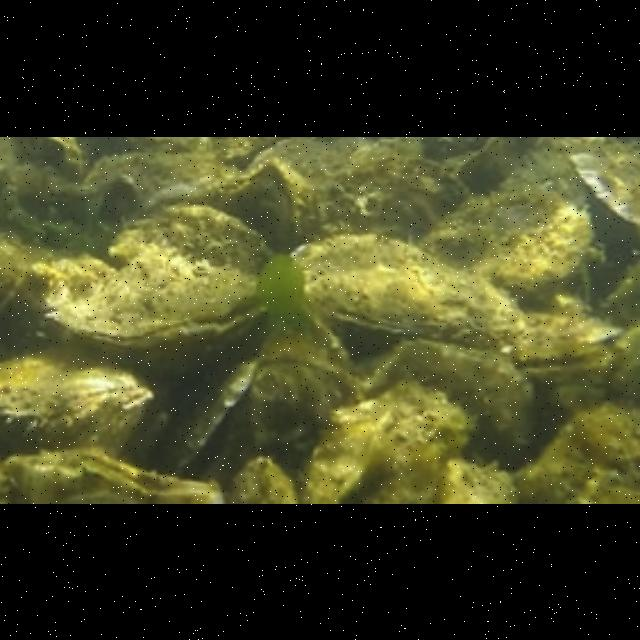Oyster-Closed: (50, 206, 270, 348), (288, 234, 528, 346), (358, 338, 539, 466), (298, 386, 477, 501), (422, 181, 598, 288), (314, 159, 473, 255), (0, 355, 150, 452), (252, 136, 424, 215), (235, 356, 364, 454), (512, 404, 638, 501), (0, 450, 226, 501), (0, 240, 117, 331), (561, 136, 638, 221), (505, 137, 589, 206), (250, 164, 312, 246), (505, 310, 623, 353), (442, 137, 521, 186), (442, 461, 517, 501), (231, 460, 297, 501), (610, 326, 638, 399)
Oyster-Open: (158, 362, 258, 476), (508, 339, 613, 385)
